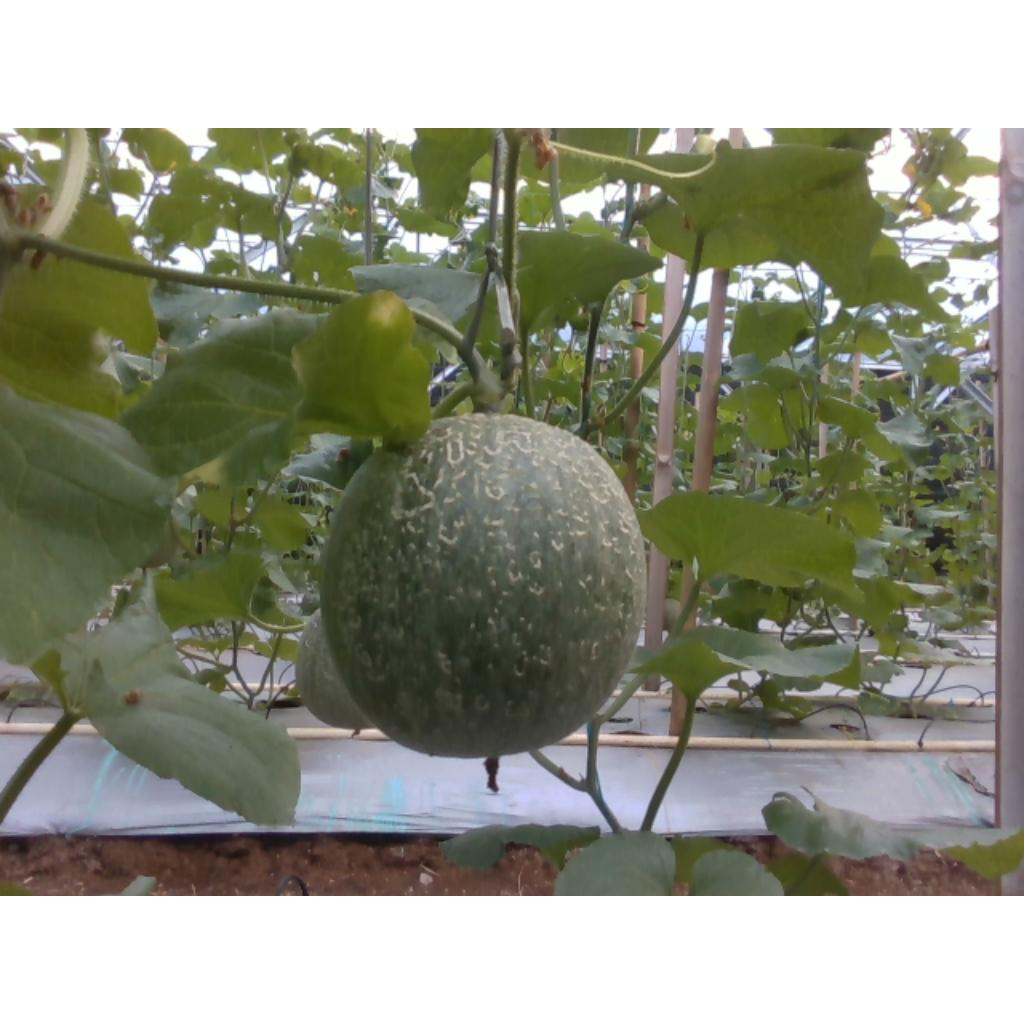melon: (322, 413, 646, 758)
